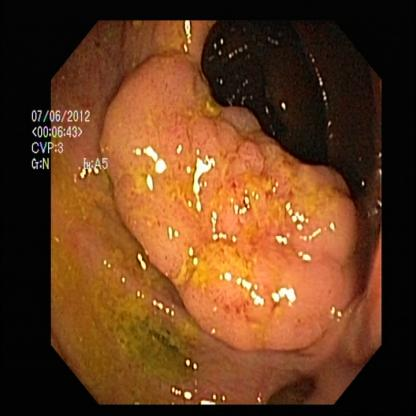Labels: (25, 100, 108, 178)
Polyps: (108, 69, 365, 334)
